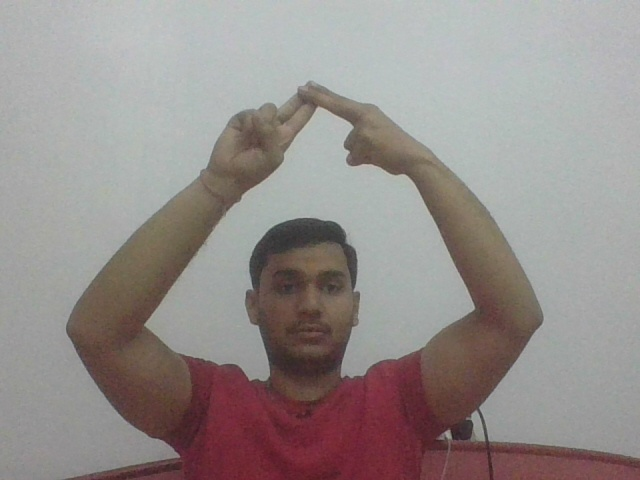F: (205, 75, 430, 176)
